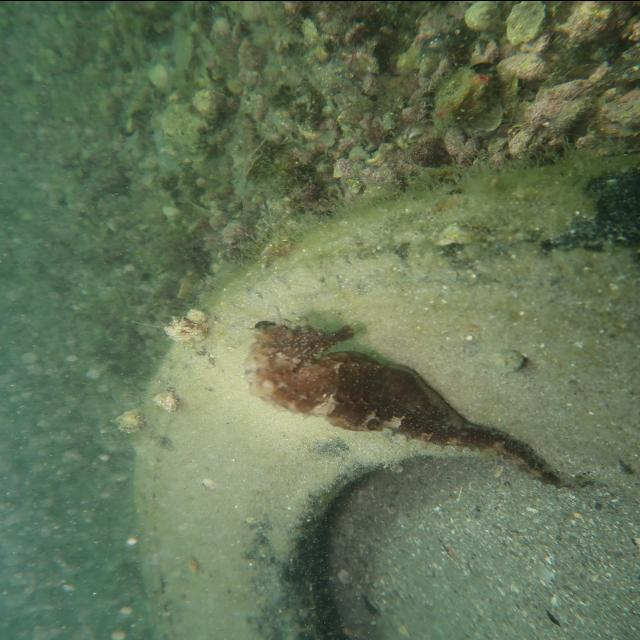Hippo: (242, 315, 364, 359)
